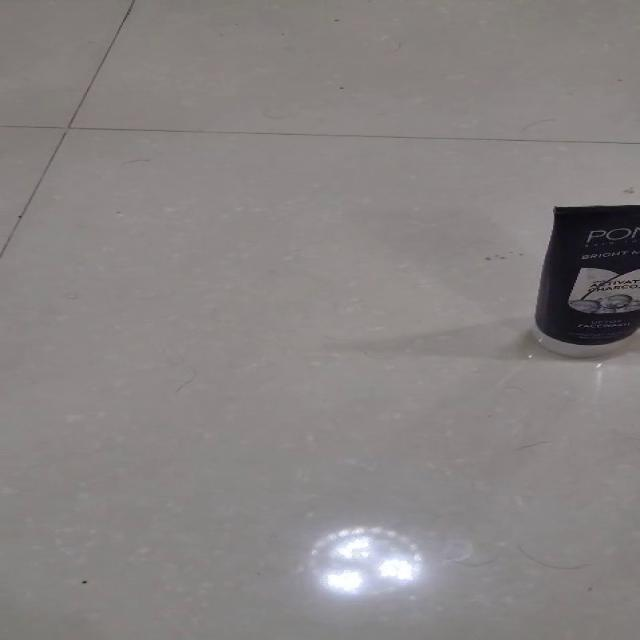plastic: (530, 203, 639, 358)
